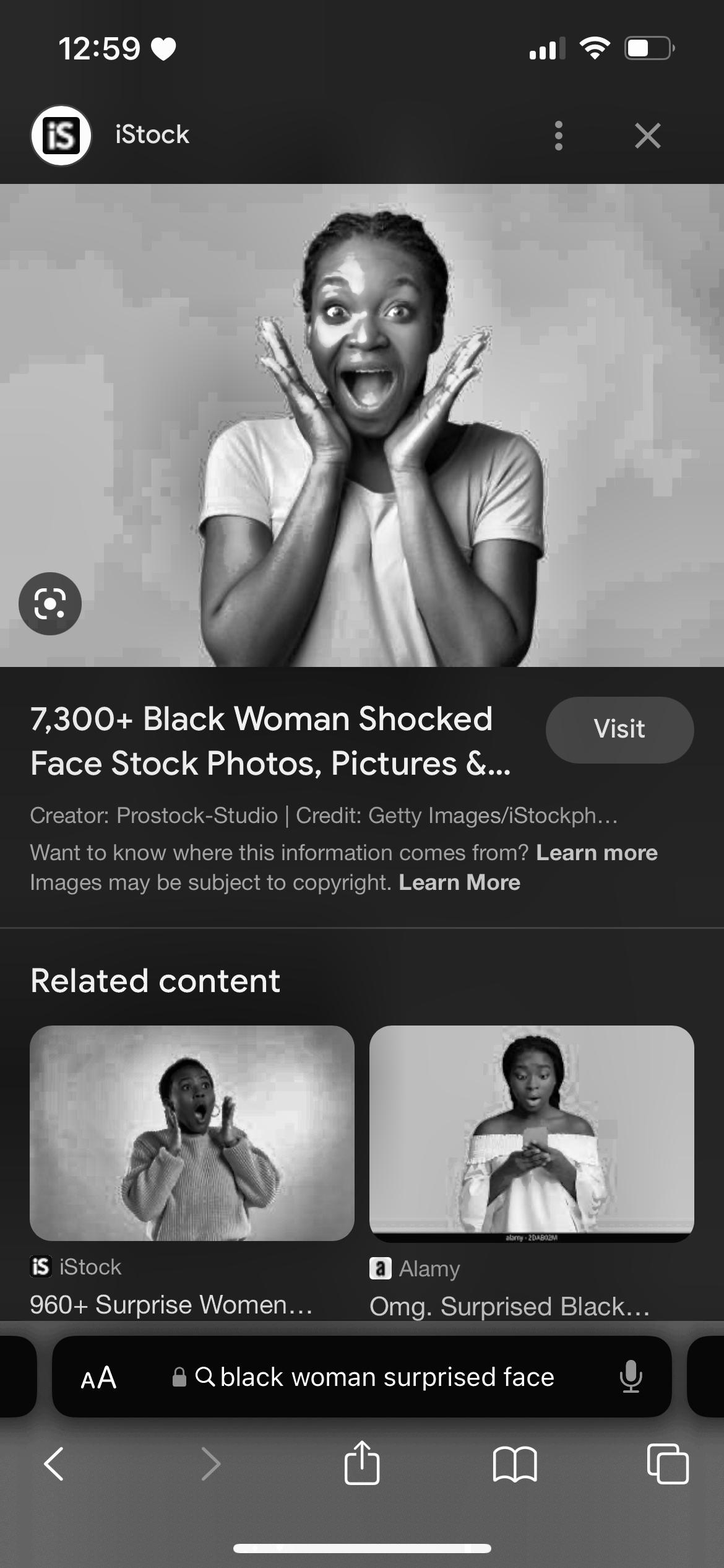surprised: (308, 234, 437, 437)
